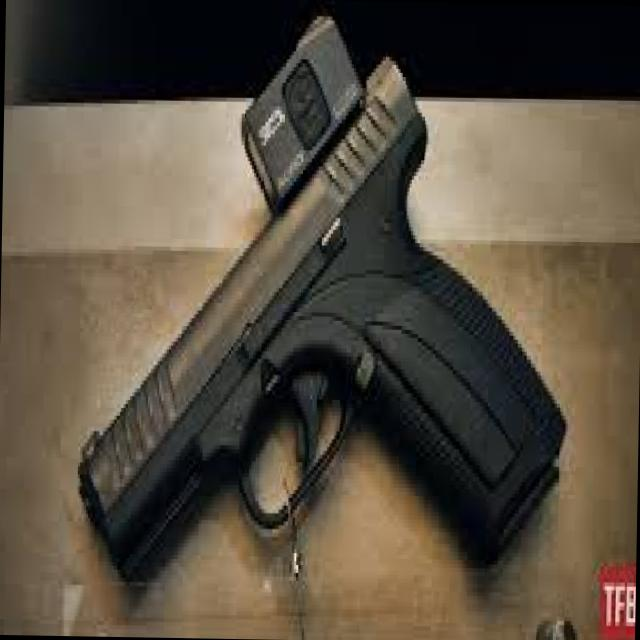Gun: (42, 32, 580, 620)
